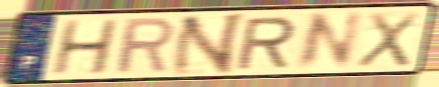H: (48, 17, 121, 77)
N: (167, 11, 250, 78), (291, 9, 366, 73)
R: (114, 15, 176, 77), (234, 15, 299, 72)
X: (353, 10, 421, 70)
